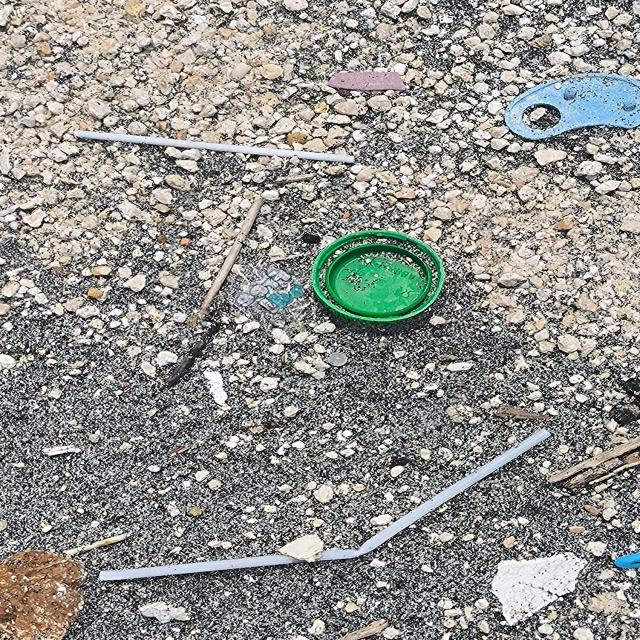plastic_waste: (93, 431, 557, 583), (311, 232, 446, 327), (76, 133, 354, 166)
